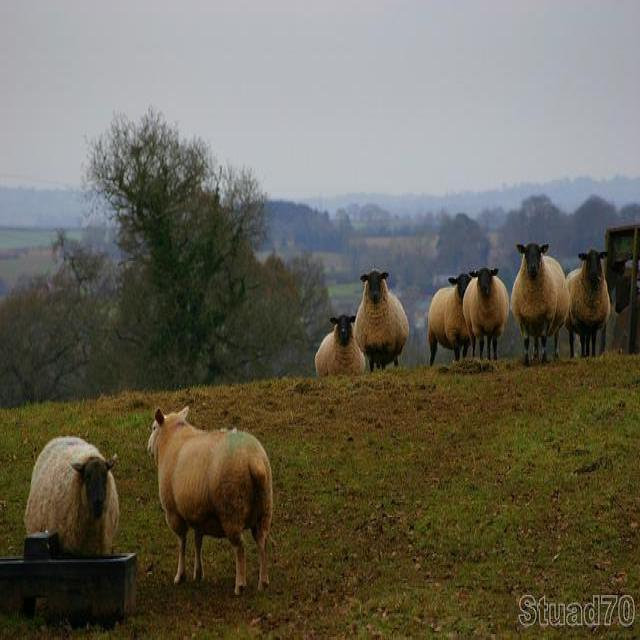Sheep: (147, 403, 275, 604), (24, 438, 119, 554), (510, 243, 571, 364), (353, 266, 411, 374), (566, 250, 616, 356), (463, 267, 511, 361), (428, 274, 471, 369), (315, 314, 366, 378)
